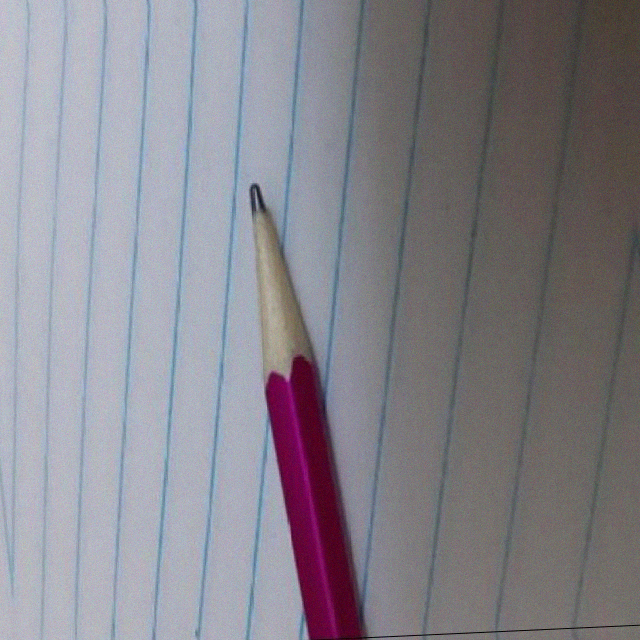pencil: (225, 173, 314, 388)
